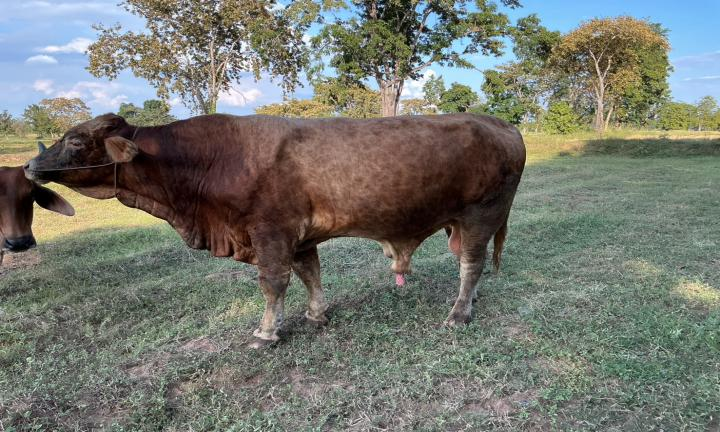Charolais: (25, 113, 525, 347)
